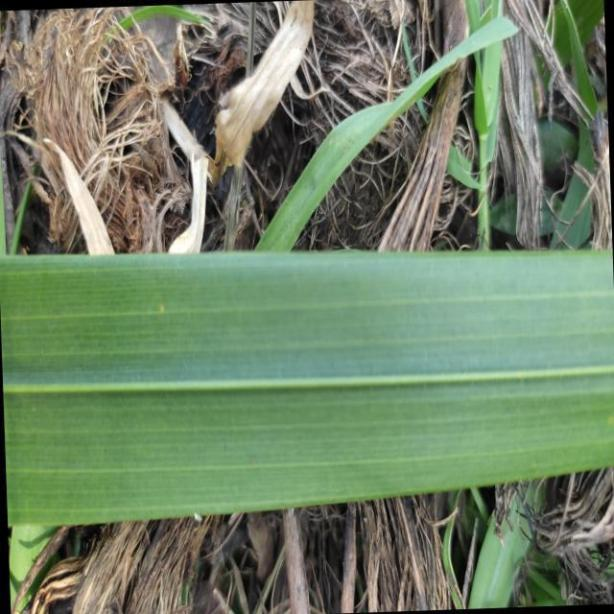Healthy: (0, 251, 614, 528)
